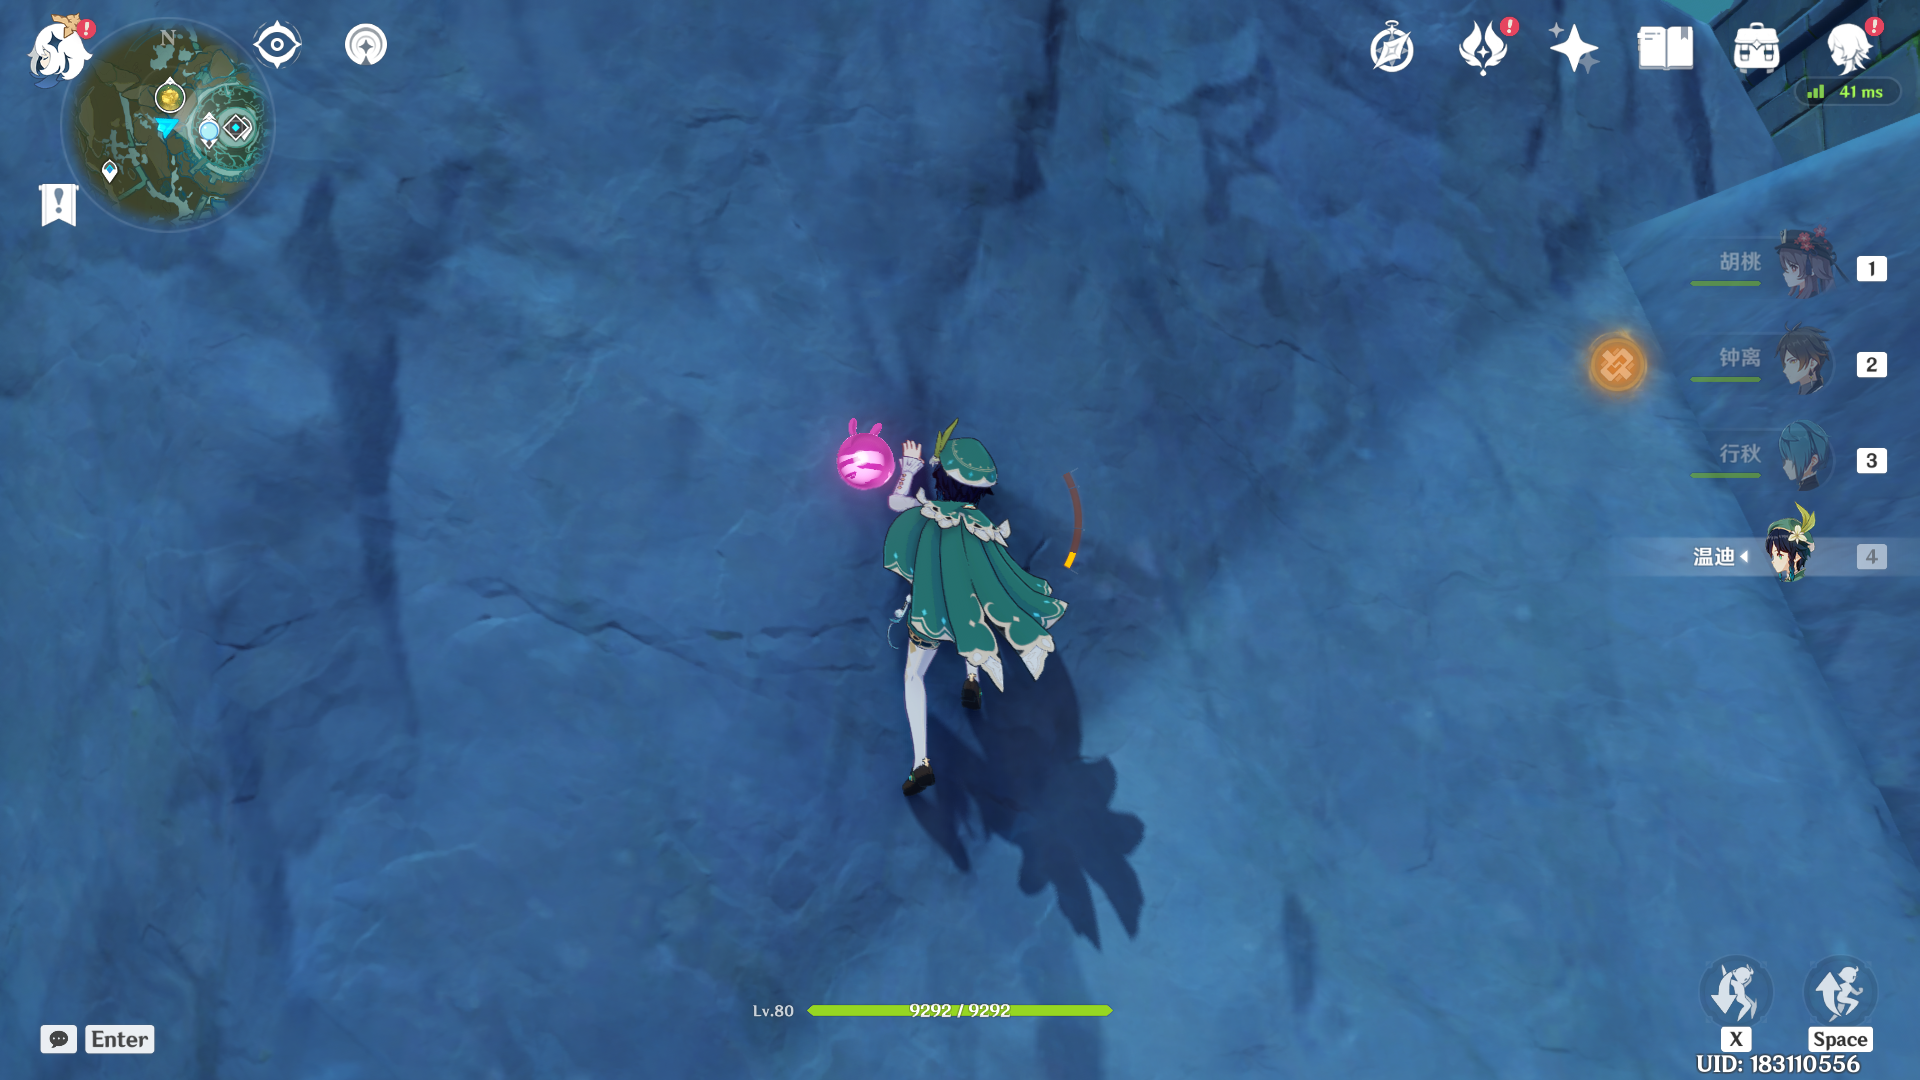character: (777, 389, 1179, 844)
